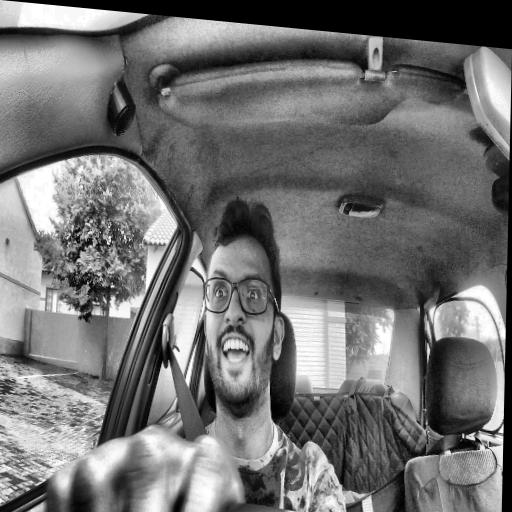awake: (201, 197, 288, 422)
